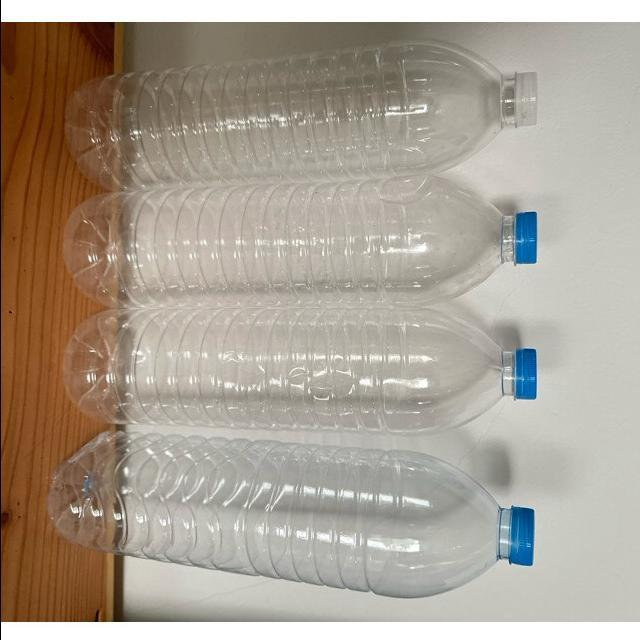PET Bottle: (29, 417, 539, 600), (24, 48, 562, 185), (46, 301, 546, 438), (32, 176, 550, 308)
